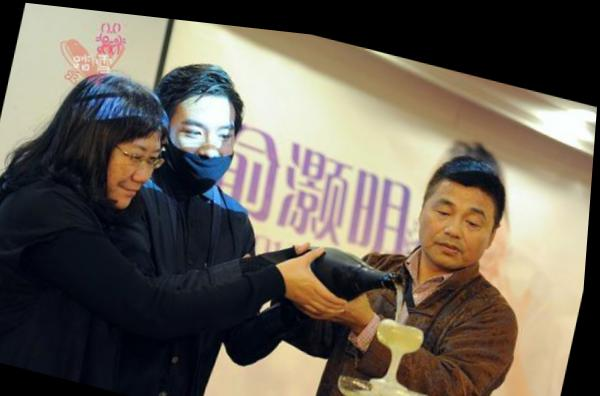NONE: (417, 180, 495, 262), (105, 126, 168, 217)
WRONG: (153, 99, 256, 204)
